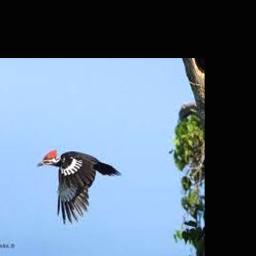Woodpecker: (37, 149, 122, 225)
